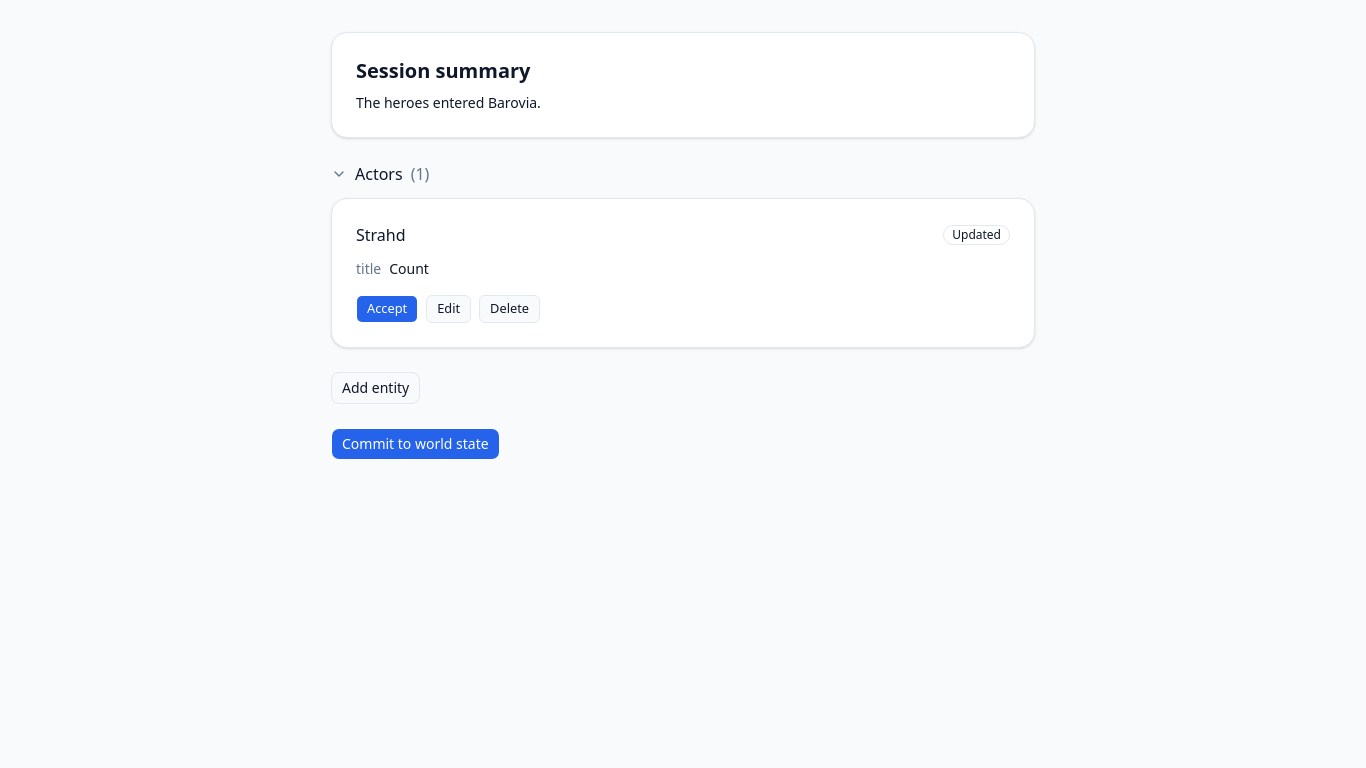
Test: DiffReviewPage › removes a previously added entity
Click the button "Add entity" at {"x": 376, "y": 388}, box [331,372,420,404]
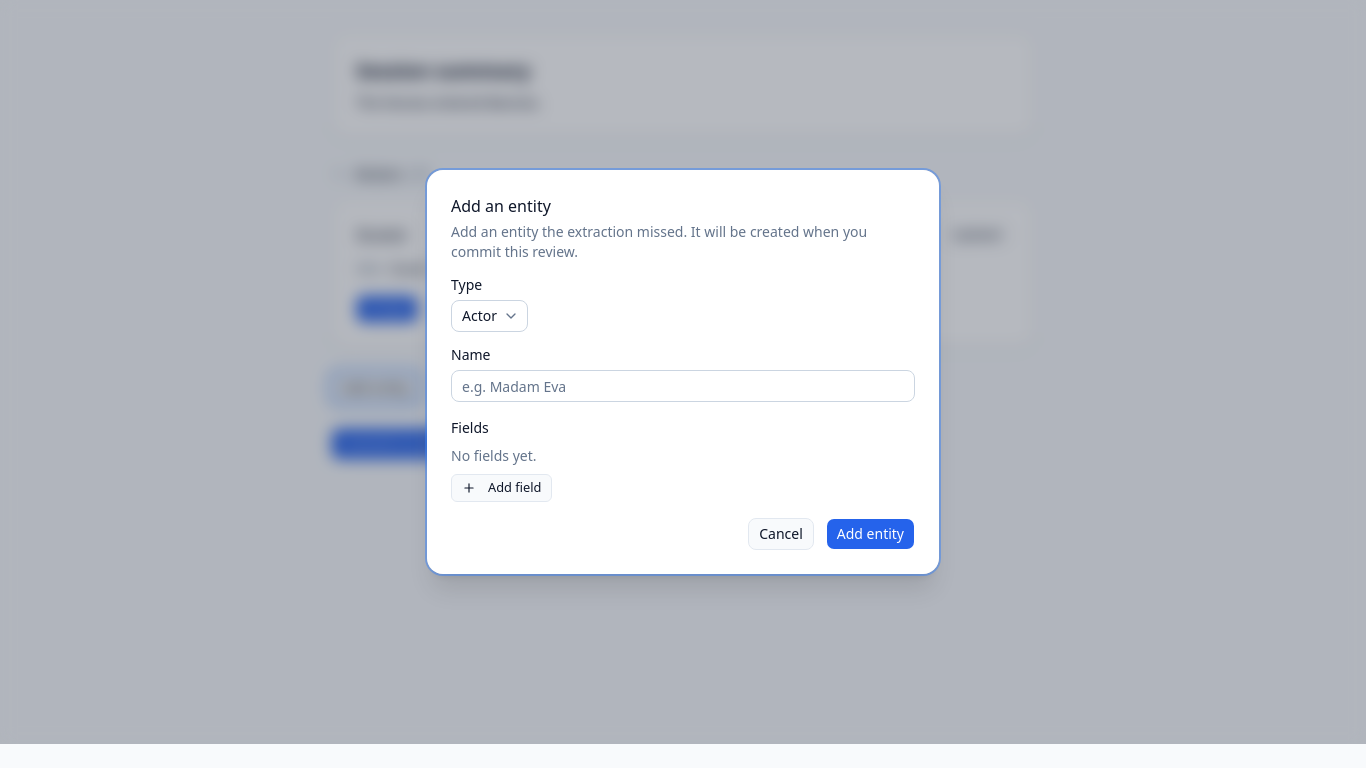
Type "Madam Eva" into the field labelled "Name" at {"x": 683, "y": 386}, box [451,370,915,402]
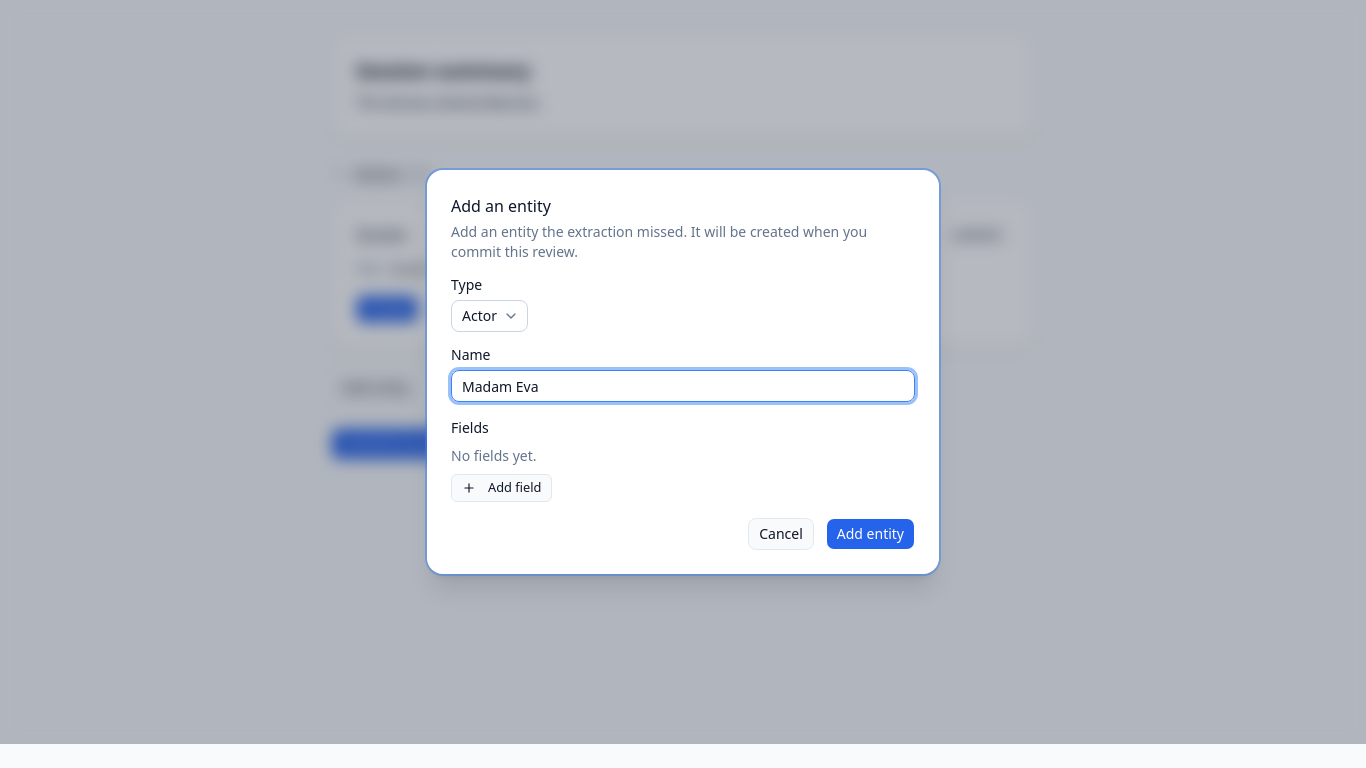
Click the button "Add entity" at {"x": 870, "y": 534}, box [826,518,915,550]
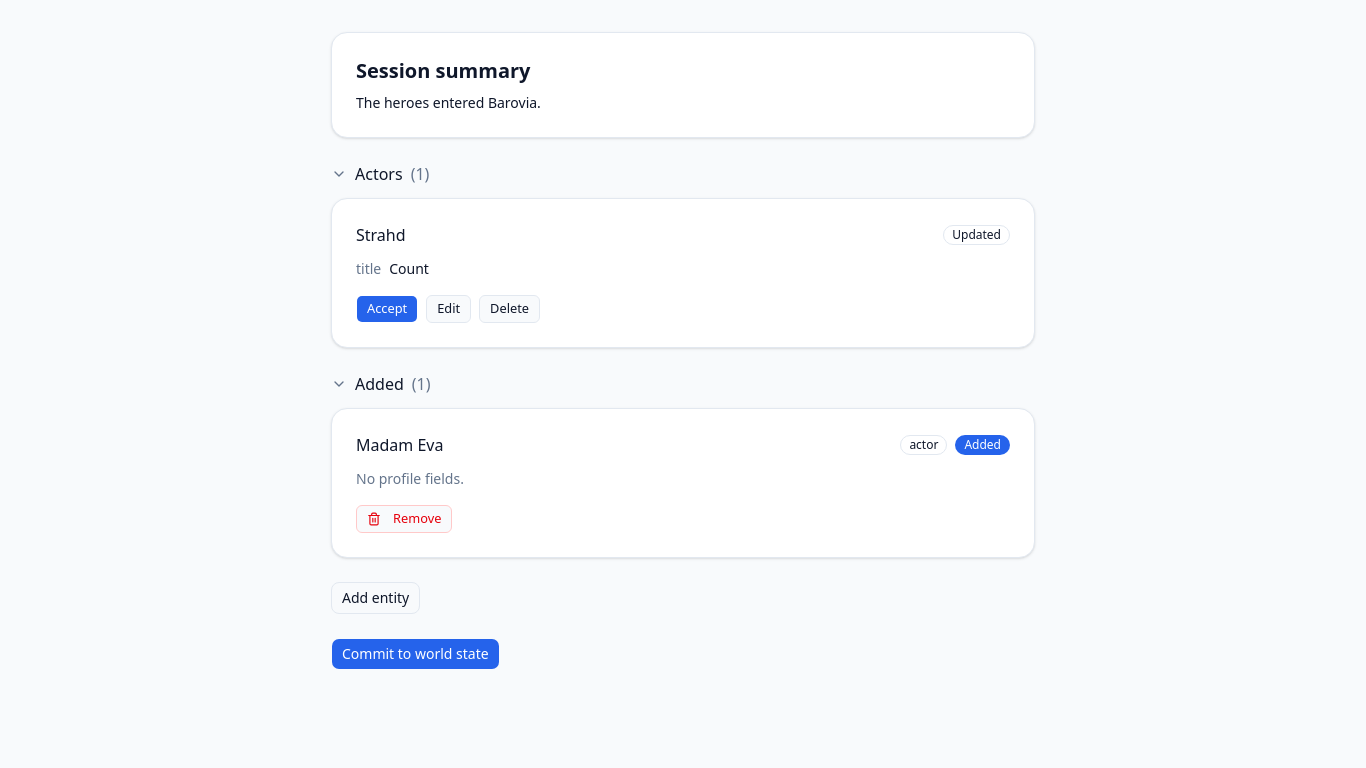
Click the button "Remove" at {"x": 404, "y": 519}, box [356,505,452,533]
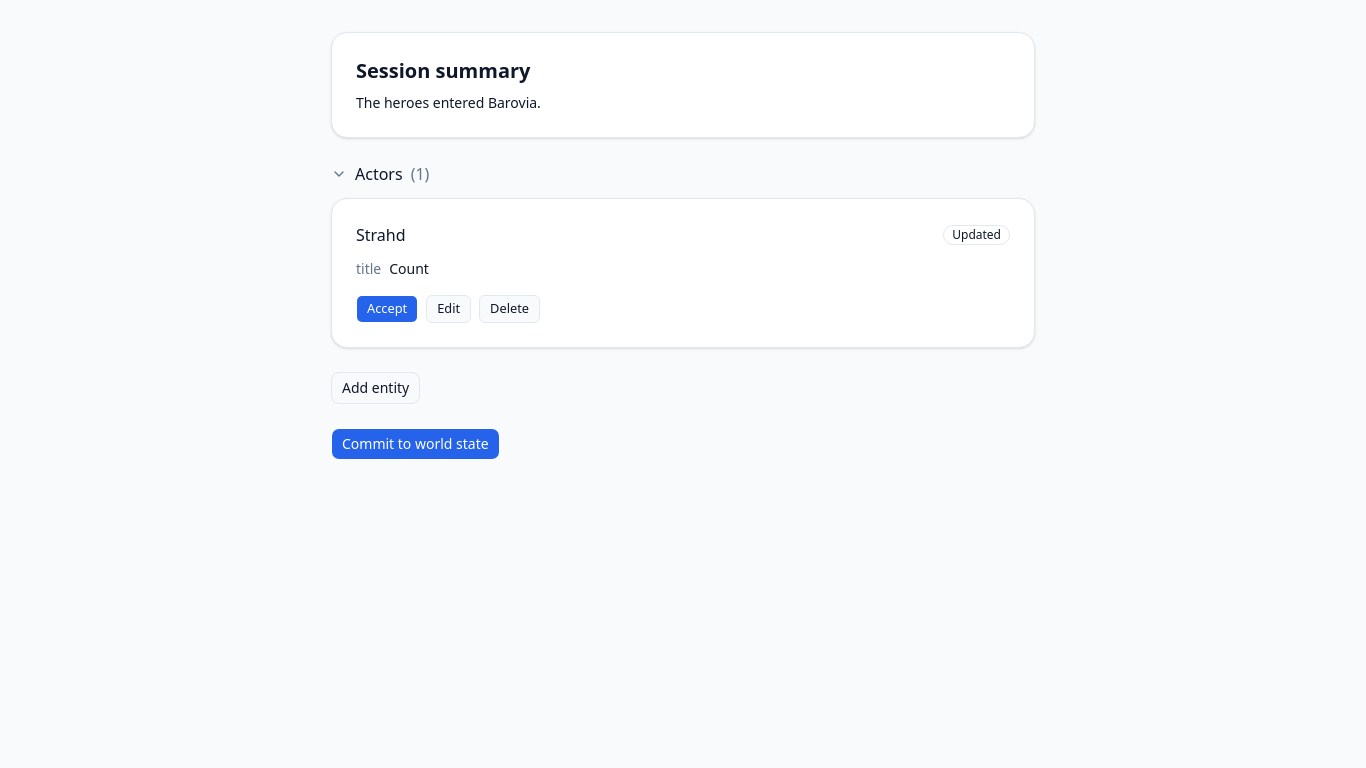
Check: the heading "Madam Eva" is gone
